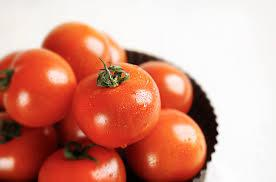tomato: (75, 62, 160, 148), (5, 49, 77, 126), (132, 110, 206, 182), (42, 22, 112, 82), (1, 111, 57, 178), (136, 59, 196, 117), (39, 144, 127, 180)
